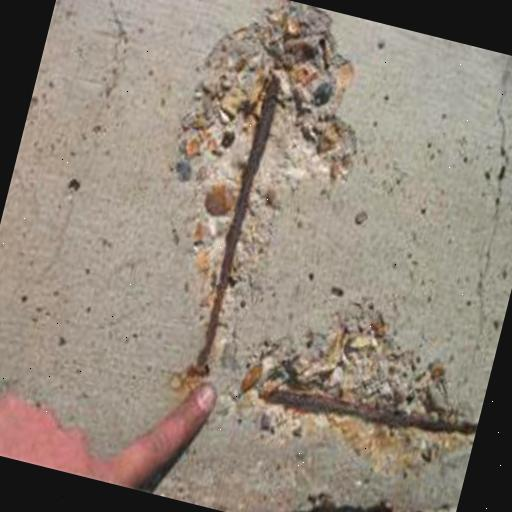spalling: (171, 5, 478, 470)
